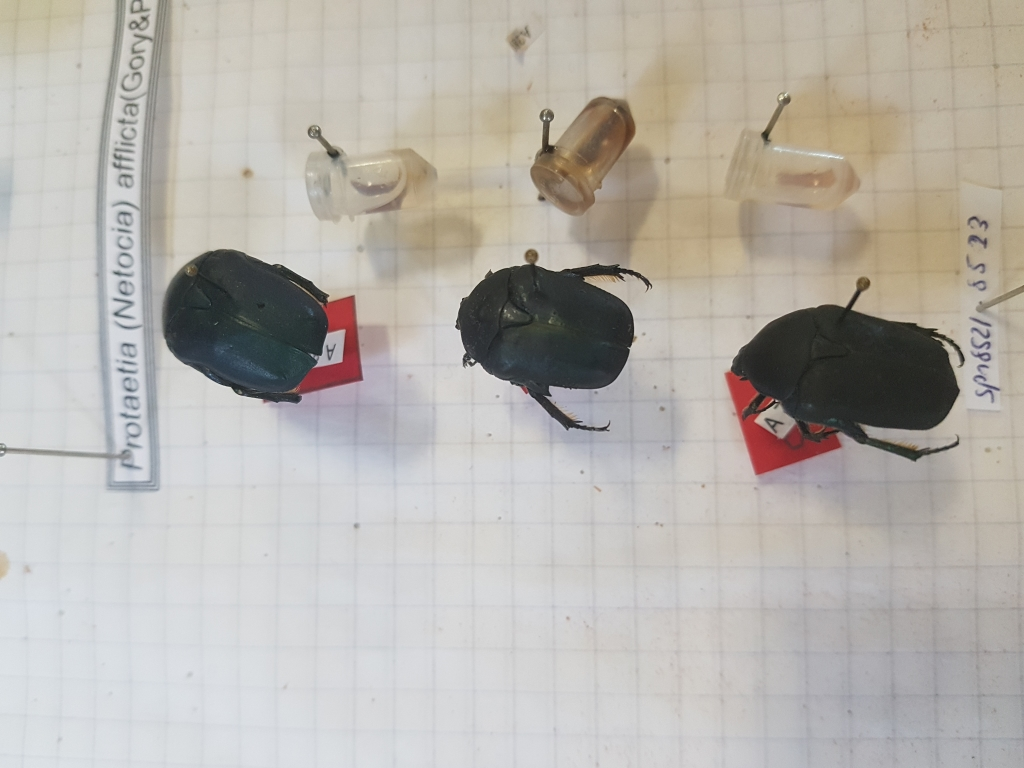Protaetia_afflicta: (714, 291, 972, 471), (441, 252, 655, 439), (147, 241, 333, 413)
